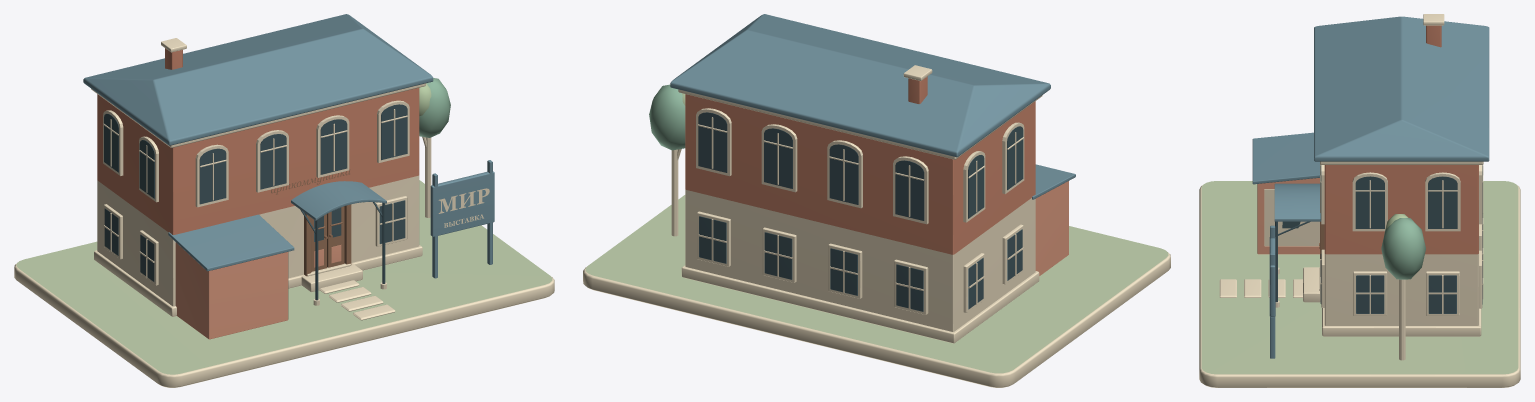
Rendered from artkommunalka.glb.
3 renders of one model, left to right at view 1: azimuth 30°, elevation 25°; view 2: azimuth 150°, elevation 25°; view 3: azimuth 270°, elevation 25°, orthographic. The views are drawn at different scales.
Visible parts, largest first — view 1: artkommunalka · soft low-poly; view 2: artkommunalka · soft low-poly; view 3: artkommunalka · soft low-poly.
Part boxes in pixels (x1=…): artkommunalka · soft low-poly: x1=14, y1=14, x2=554, y2=387; artkommunalka · soft low-poly: x1=583, y1=14, x2=1170, y2=387; artkommunalka · soft low-poly: x1=1199, y1=14, x2=1520, y2=387.
Bounding box in the file's own units: 7.2 × 4.07 × 5.
